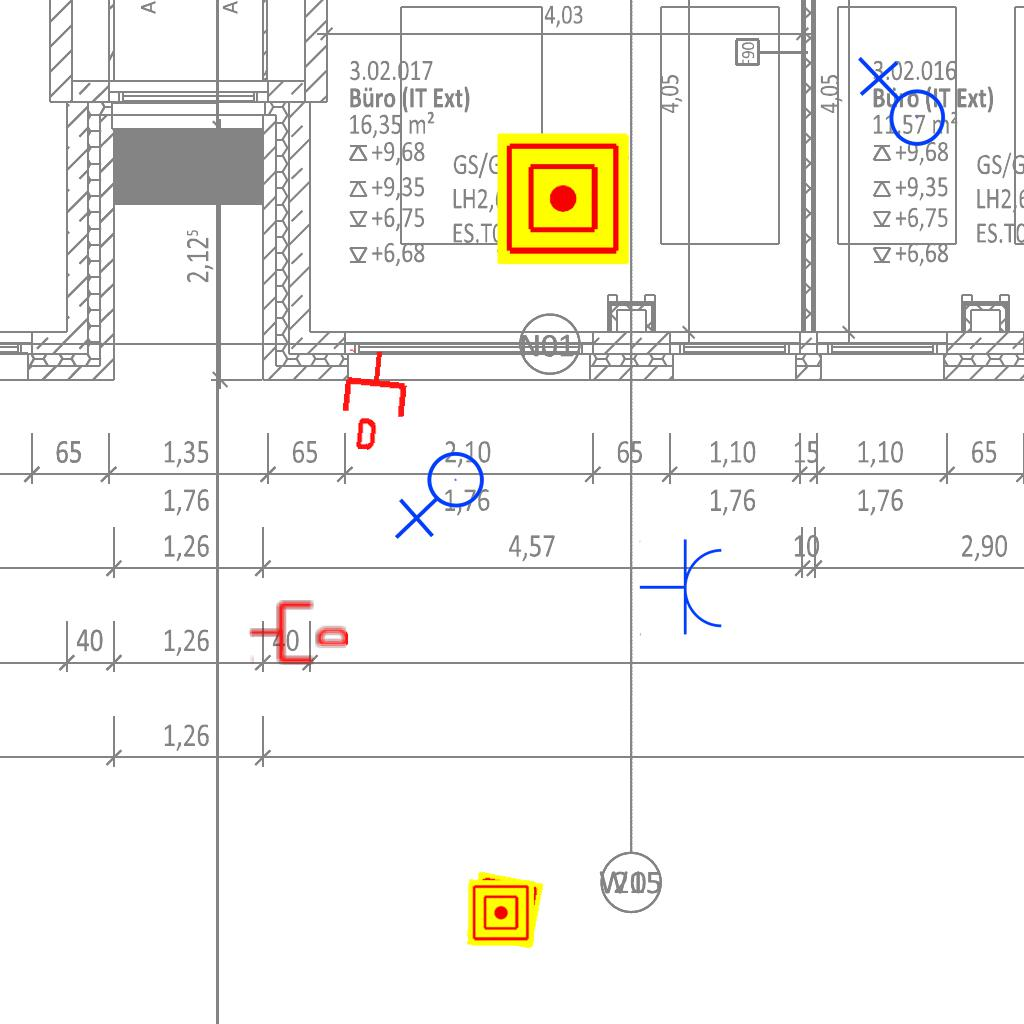Datenanschluss_einfach: (334, 346, 415, 454), (248, 598, 348, 667)
Elektroanschluss_allgemein_230V_Geraeteanschlussdose_230V: (853, 56, 947, 155), (394, 450, 493, 544)
NAM-Nichtautomatischer_Melder: (497, 133, 629, 265), (466, 871, 544, 949), (467, 879, 535, 947)
Schukosteckdose_einfach: (639, 538, 726, 638)
